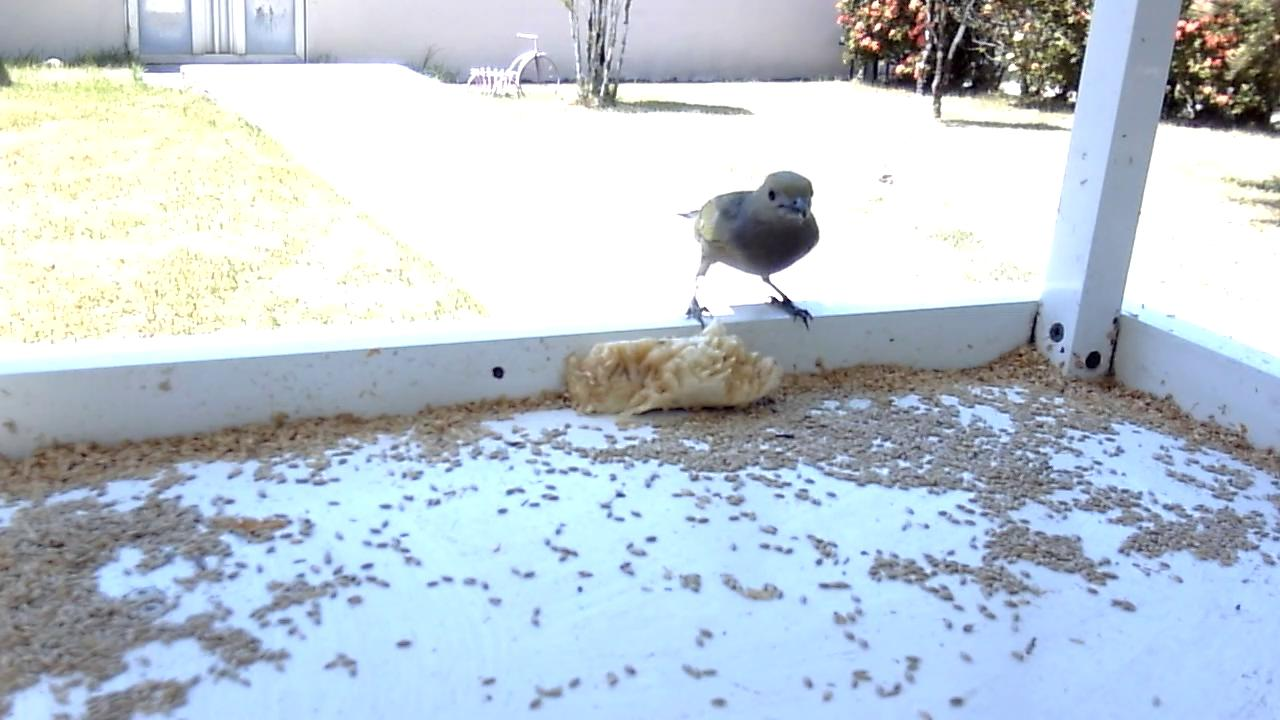sanhaco_do_coqueiro: (678, 169, 824, 331)
